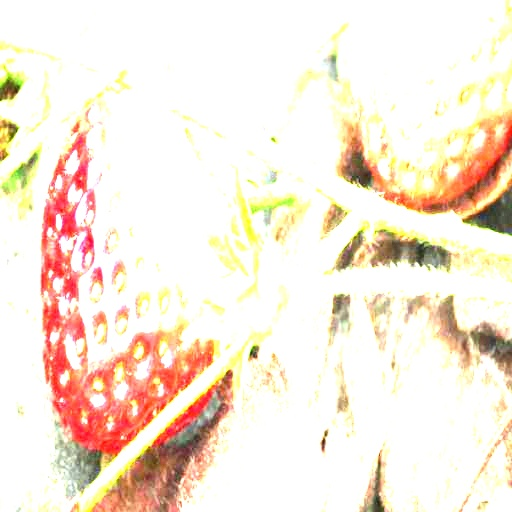Gray Mold: (115, 88, 225, 301)
